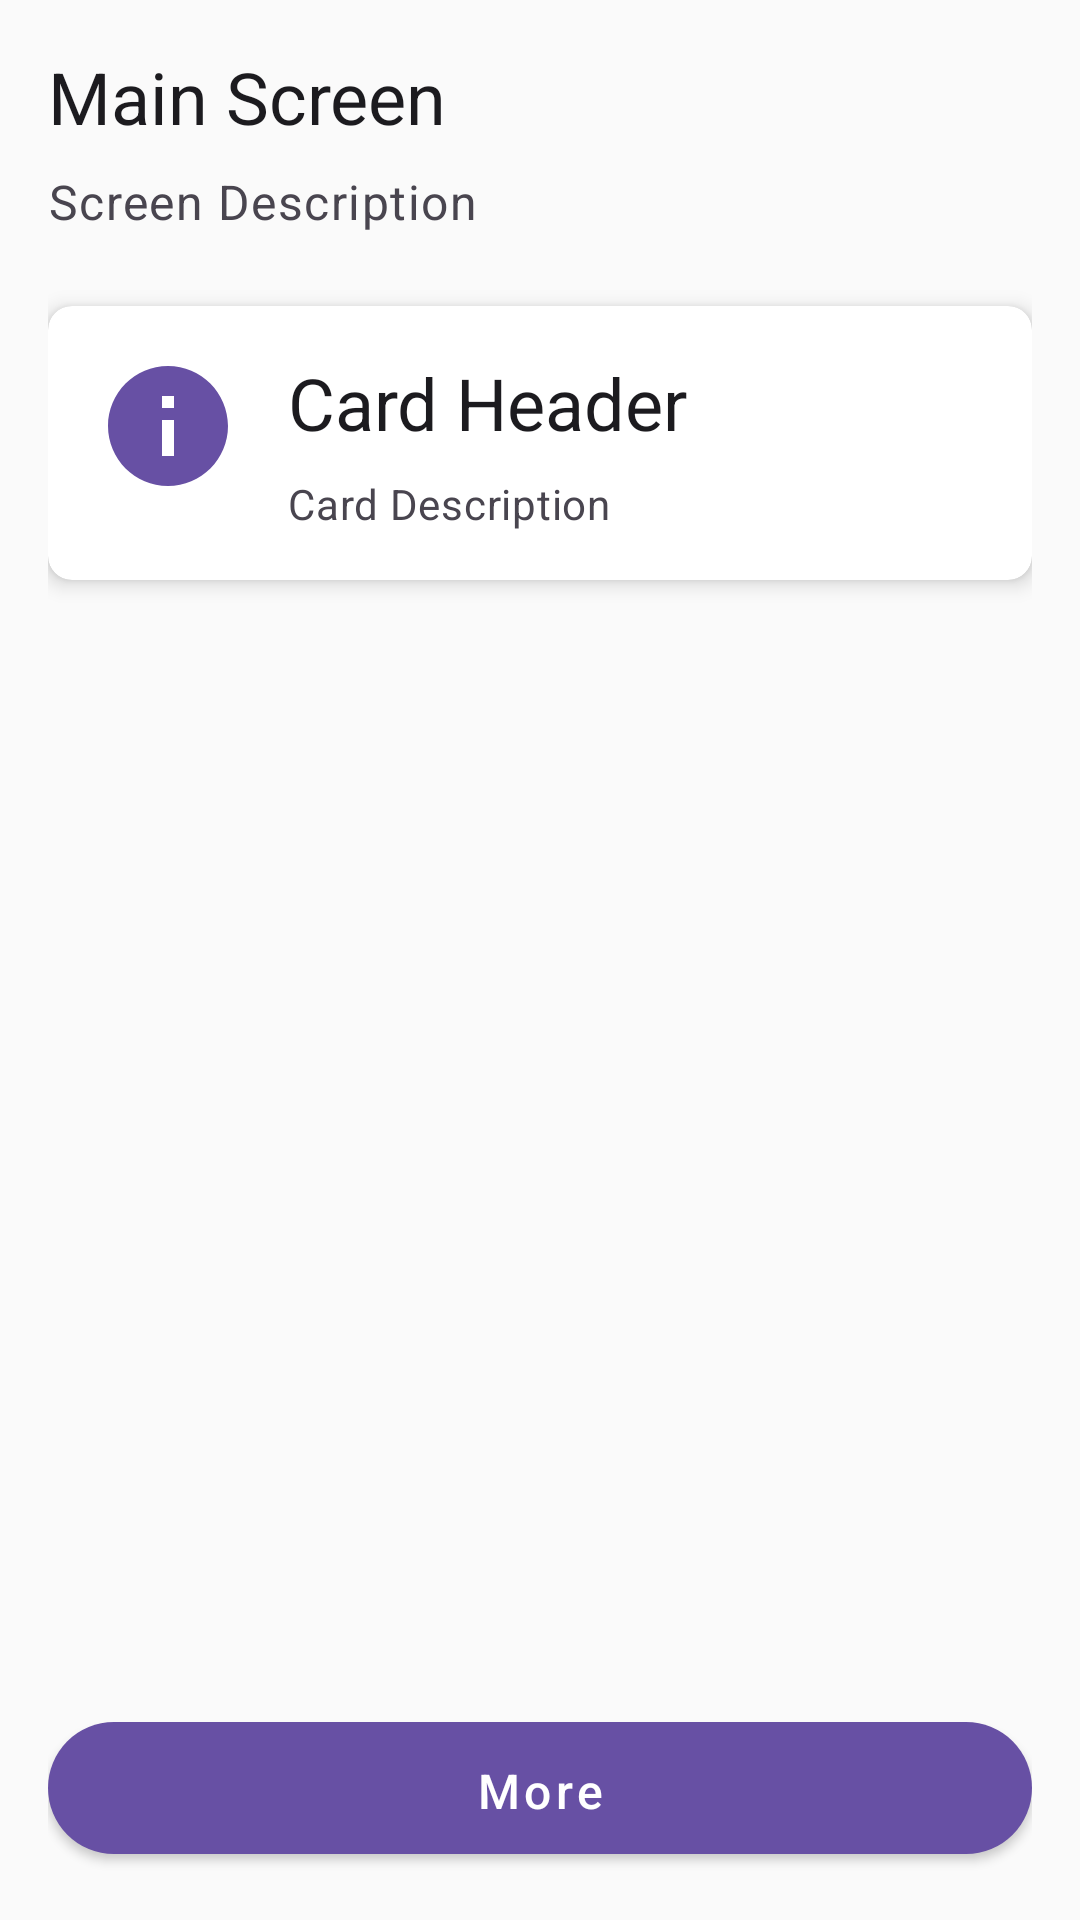

Screen size 1080×1920. Icon name, then its box in pixels as (x1, y1, x2, y2):
info: (108, 366, 228, 486)
